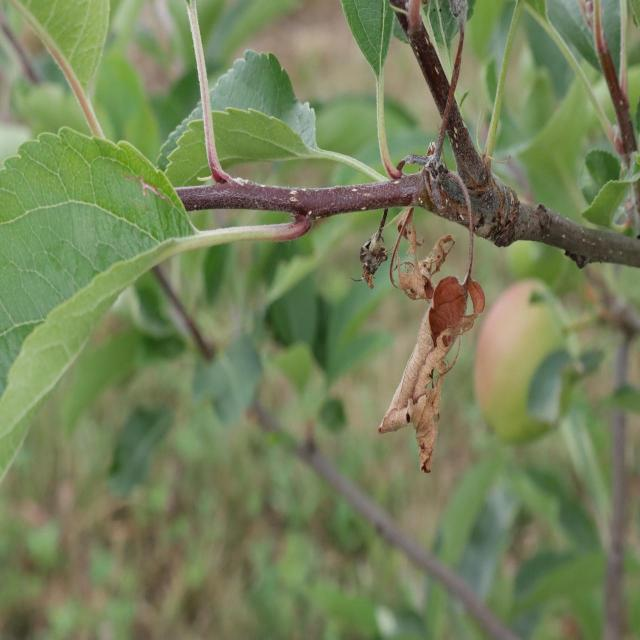-FireBlight-: (368, 151, 490, 479)
